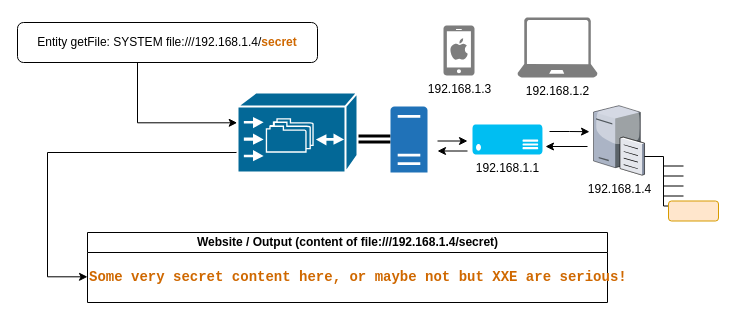
Some shapes in this 736 by 320 pixel diagram are drawn without their labels. Each missing label, with the centre of its shape:
"Host" belongs at [408,139].
"secret" belongs at [693,210].
"XML Parser" belongs at [297,132].
